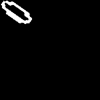chain: (1, 1, 31, 23)
